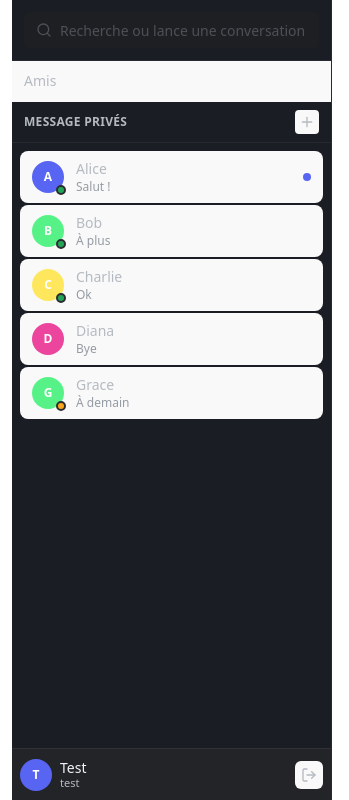
Test: MainSidebar › filters DMs by search
Type "alice" into the field with placeholder "Recherche ou lance une conversation" at [172, 30], box [24,12,319,48]
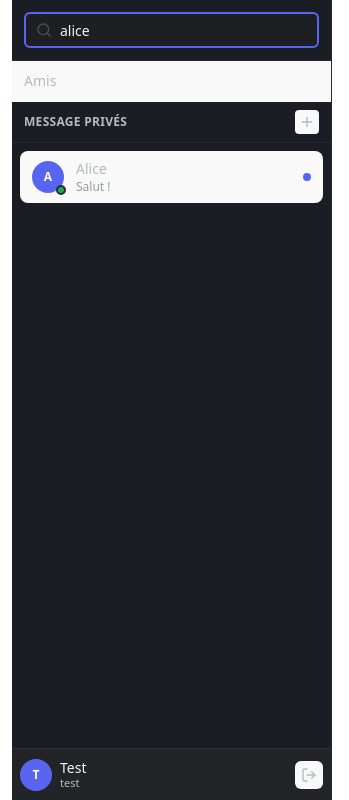
expect the text "Alice" is shown: met, box [76,159,107,178]
expect the button "Bob" is gone: met
